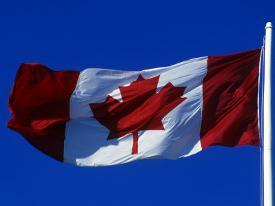Canada flag: (14, 45, 264, 167)
